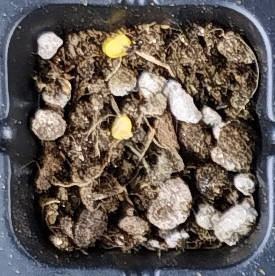pepper seed: (43, 42, 177, 183), (34, 3, 167, 62)
